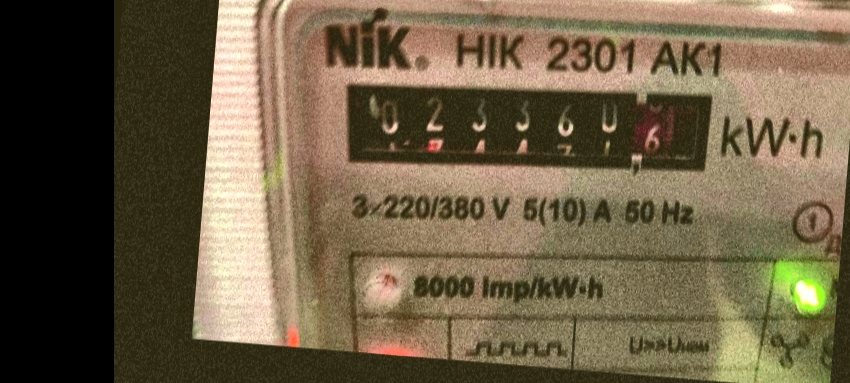0: (375, 93, 403, 137), (596, 96, 622, 134)
2: (420, 90, 449, 132)
3: (467, 92, 491, 134), (509, 93, 534, 133)
6: (550, 97, 580, 140), (641, 118, 665, 156)
screen: (318, 49, 728, 199)
